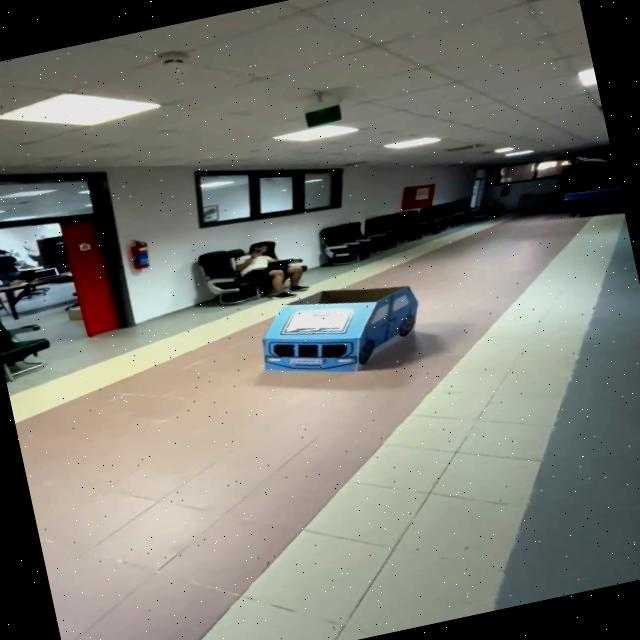blue_car: (228, 262, 450, 410)
